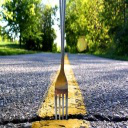fork: (50, 2, 80, 117)
